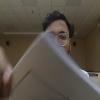notebook: (6, 30, 99, 99)
